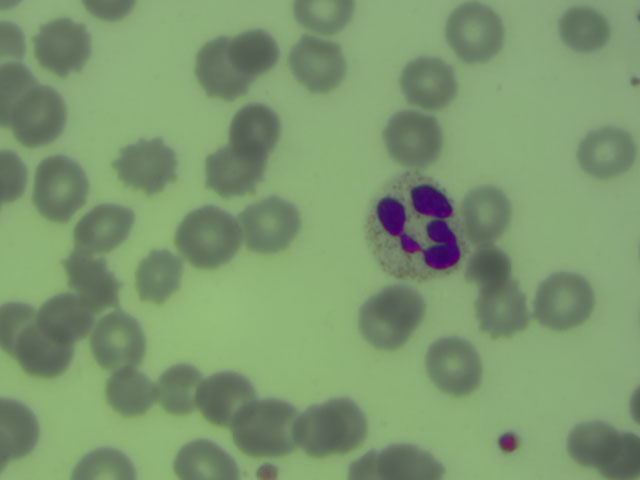Platelets: (494, 426, 522, 456), (254, 459, 279, 478), (626, 69, 640, 93)
RBC: (359, 288, 425, 347), (363, 437, 445, 480), (65, 252, 124, 309), (170, 437, 243, 480), (63, 441, 141, 480), (1, 392, 44, 462), (567, 418, 623, 471), (530, 274, 586, 327), (472, 286, 528, 339), (464, 240, 520, 293), (460, 185, 516, 238), (579, 127, 635, 180), (557, 3, 613, 56), (445, 3, 501, 56), (399, 56, 455, 109), (385, 111, 441, 164), (426, 340, 482, 393), (320, 394, 376, 447), (287, 404, 343, 457), (239, 398, 295, 451), (195, 371, 251, 424), (152, 364, 208, 417), (99, 366, 155, 419), (92, 317, 148, 370), (129, 250, 185, 303), (243, 198, 299, 251), (179, 210, 235, 263), (20, 321, 76, 374), (39, 291, 95, 344), (74, 201, 130, 254), (204, 144, 260, 197), (226, 102, 282, 155), (119, 139, 175, 192), (33, 159, 89, 212), (194, 40, 250, 93), (227, 25, 283, 78), (291, 35, 347, 88), (9, 89, 65, 142), (36, 19, 92, 72), (1, 63, 40, 128), (289, 1, 357, 32), (1, 301, 38, 355), (74, 1, 143, 26), (1, 16, 32, 71), (1, 149, 30, 199)
WBC: (365, 172, 468, 280)
